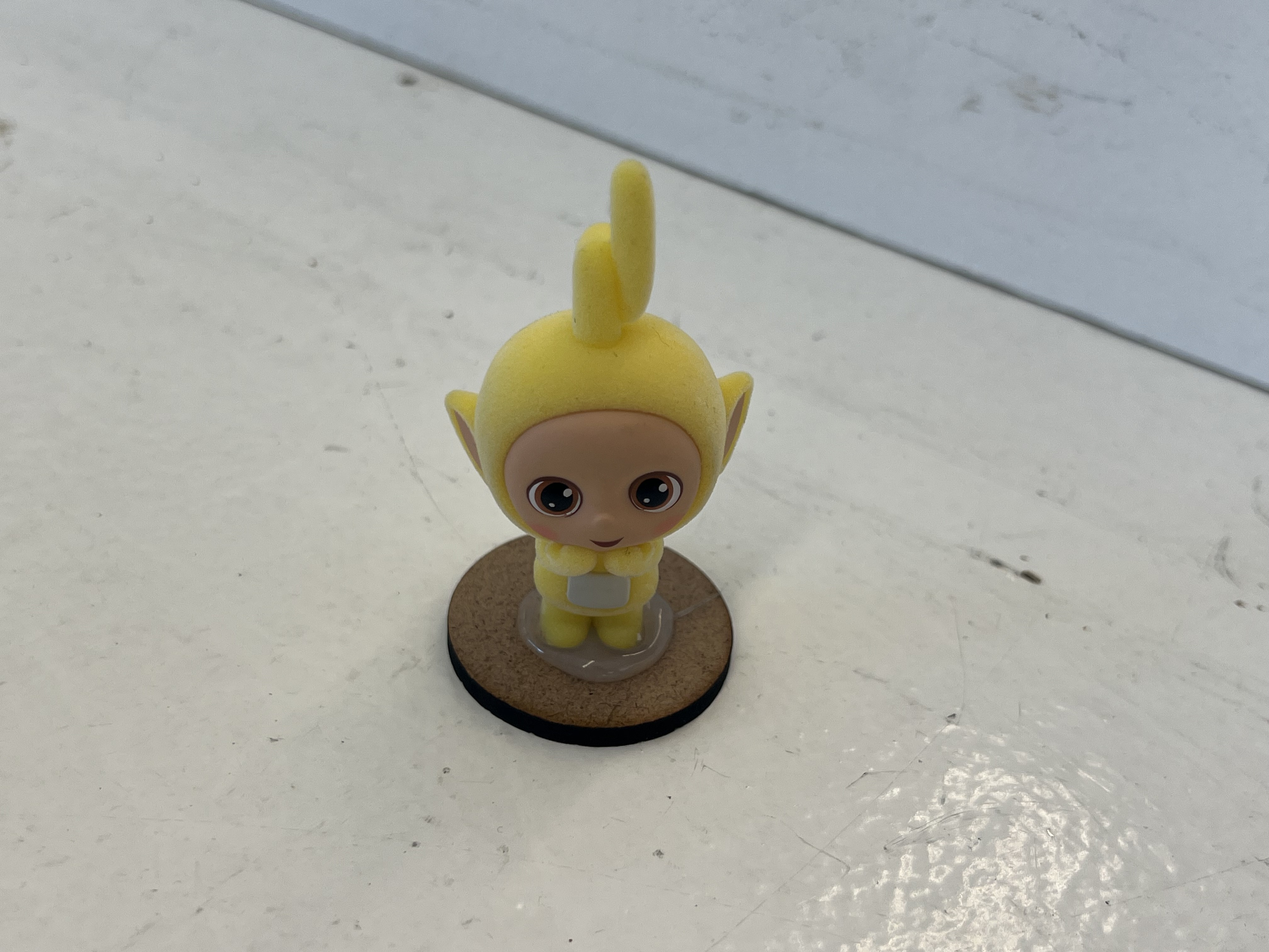teletubby: (445, 160, 753, 649)
